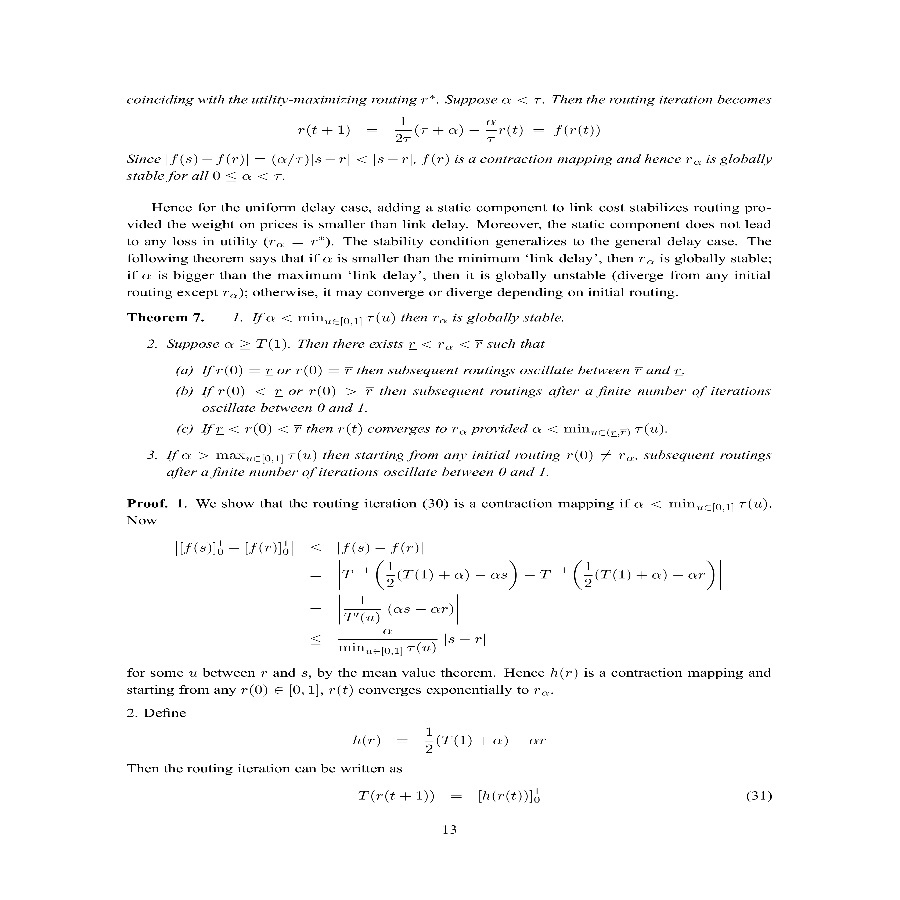eq: (169, 531, 740, 658), (292, 111, 607, 147), (341, 717, 556, 756), (355, 782, 547, 809)
